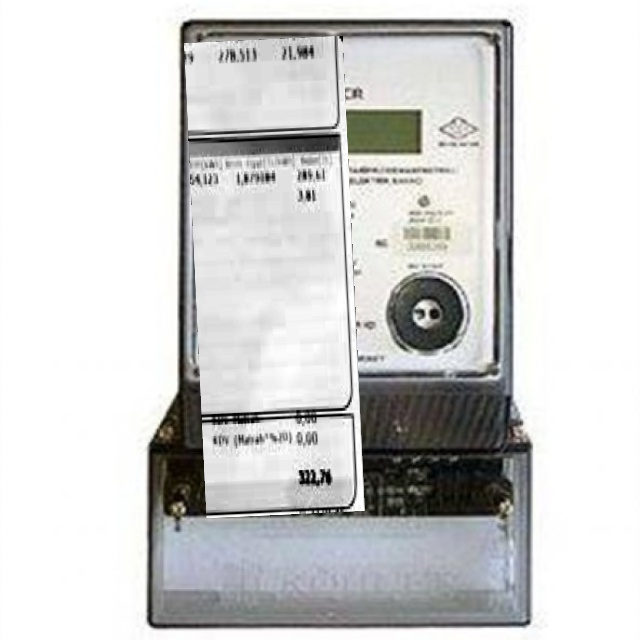electricity-bill: (183, 35, 365, 517)
